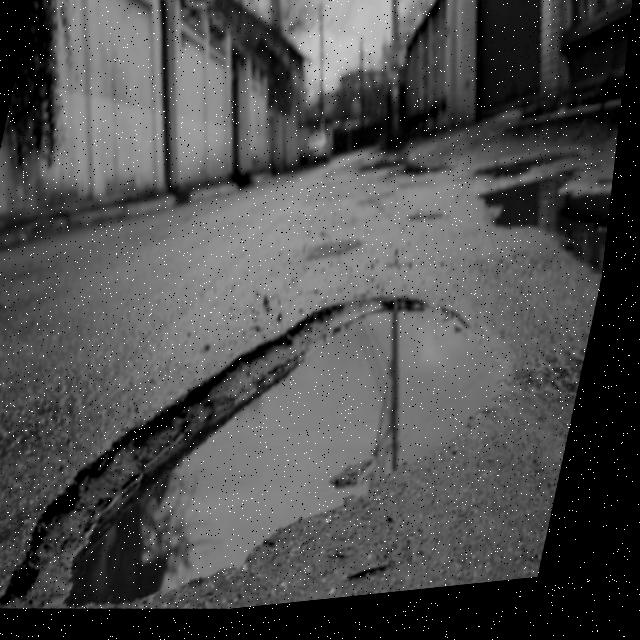Pothole: (0, 212, 595, 639), (458, 137, 623, 363), (470, 130, 591, 213), (401, 151, 457, 194)
